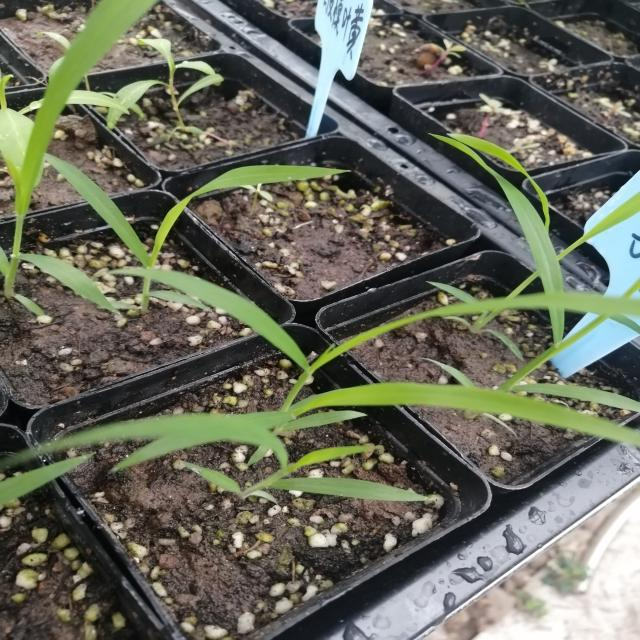crabgrass: (216, 260, 640, 490)
